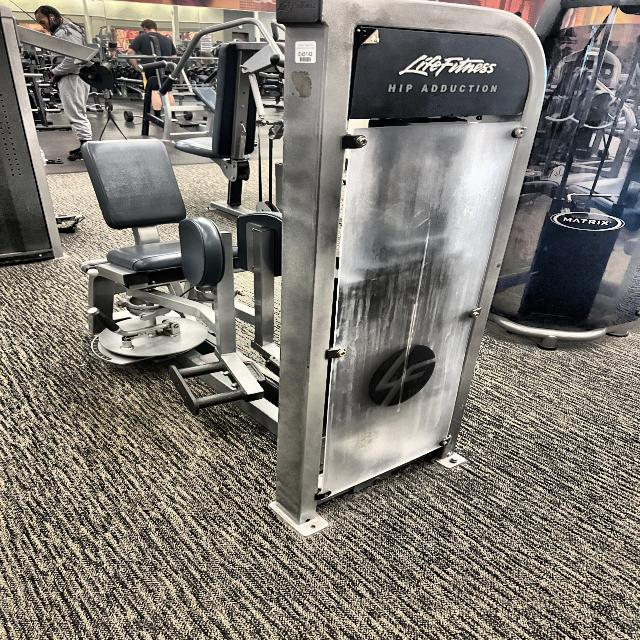hip_adduction_machine: (66, 132, 292, 442), (142, 204, 291, 306), (370, 80, 510, 101)
